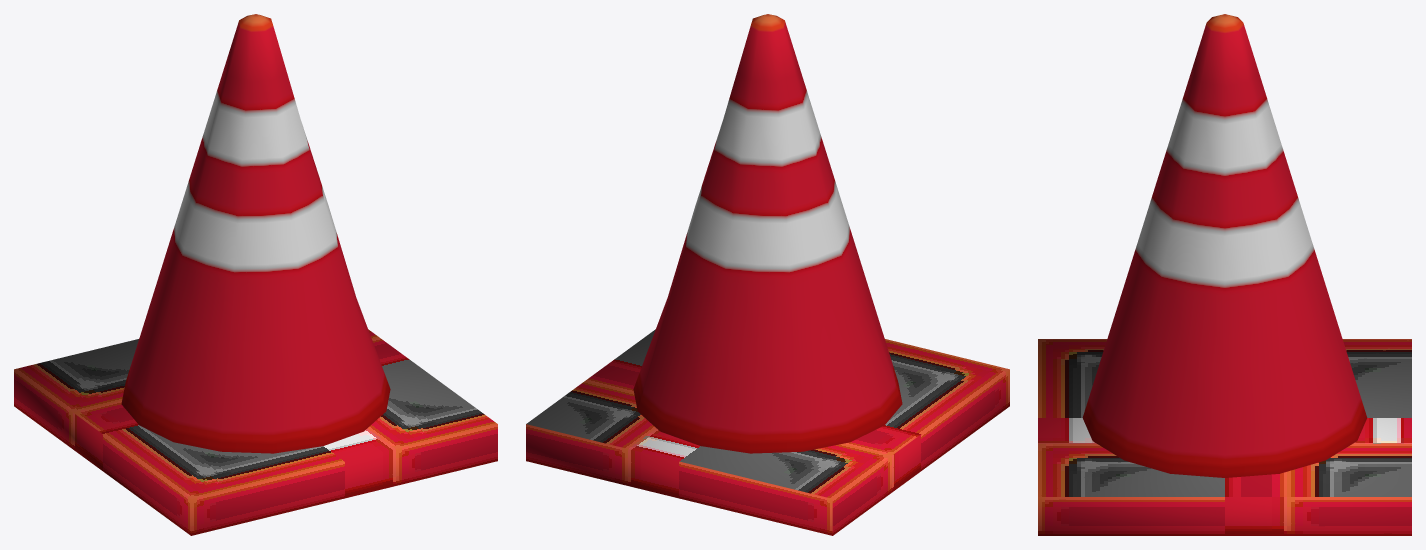
The model's file is int_cst_weightP.dae.
The picture shows the model from 3 angles, left to right: view 1: azimuth 30°, elevation 25°; view 2: azimuth 150°, elevation 25°; view 3: azimuth 270°, elevation 25°; orthographic projection. The views are drawn at different scales.
Visible parts, largest first — view 1: int_cst_weightP; view 2: int_cst_weightP; view 3: int_cst_weightP.
Boxes of the visible parts, x1,y1,x2,y2 form: int_cst_weightP: (14, 14, 497, 535); int_cst_weightP: (526, 14, 1009, 535); int_cst_weightP: (1038, 14, 1411, 535).
Size of the model in its own units: 20.8 by 27.2 by 20.8.
2 materials, 2 textured.
